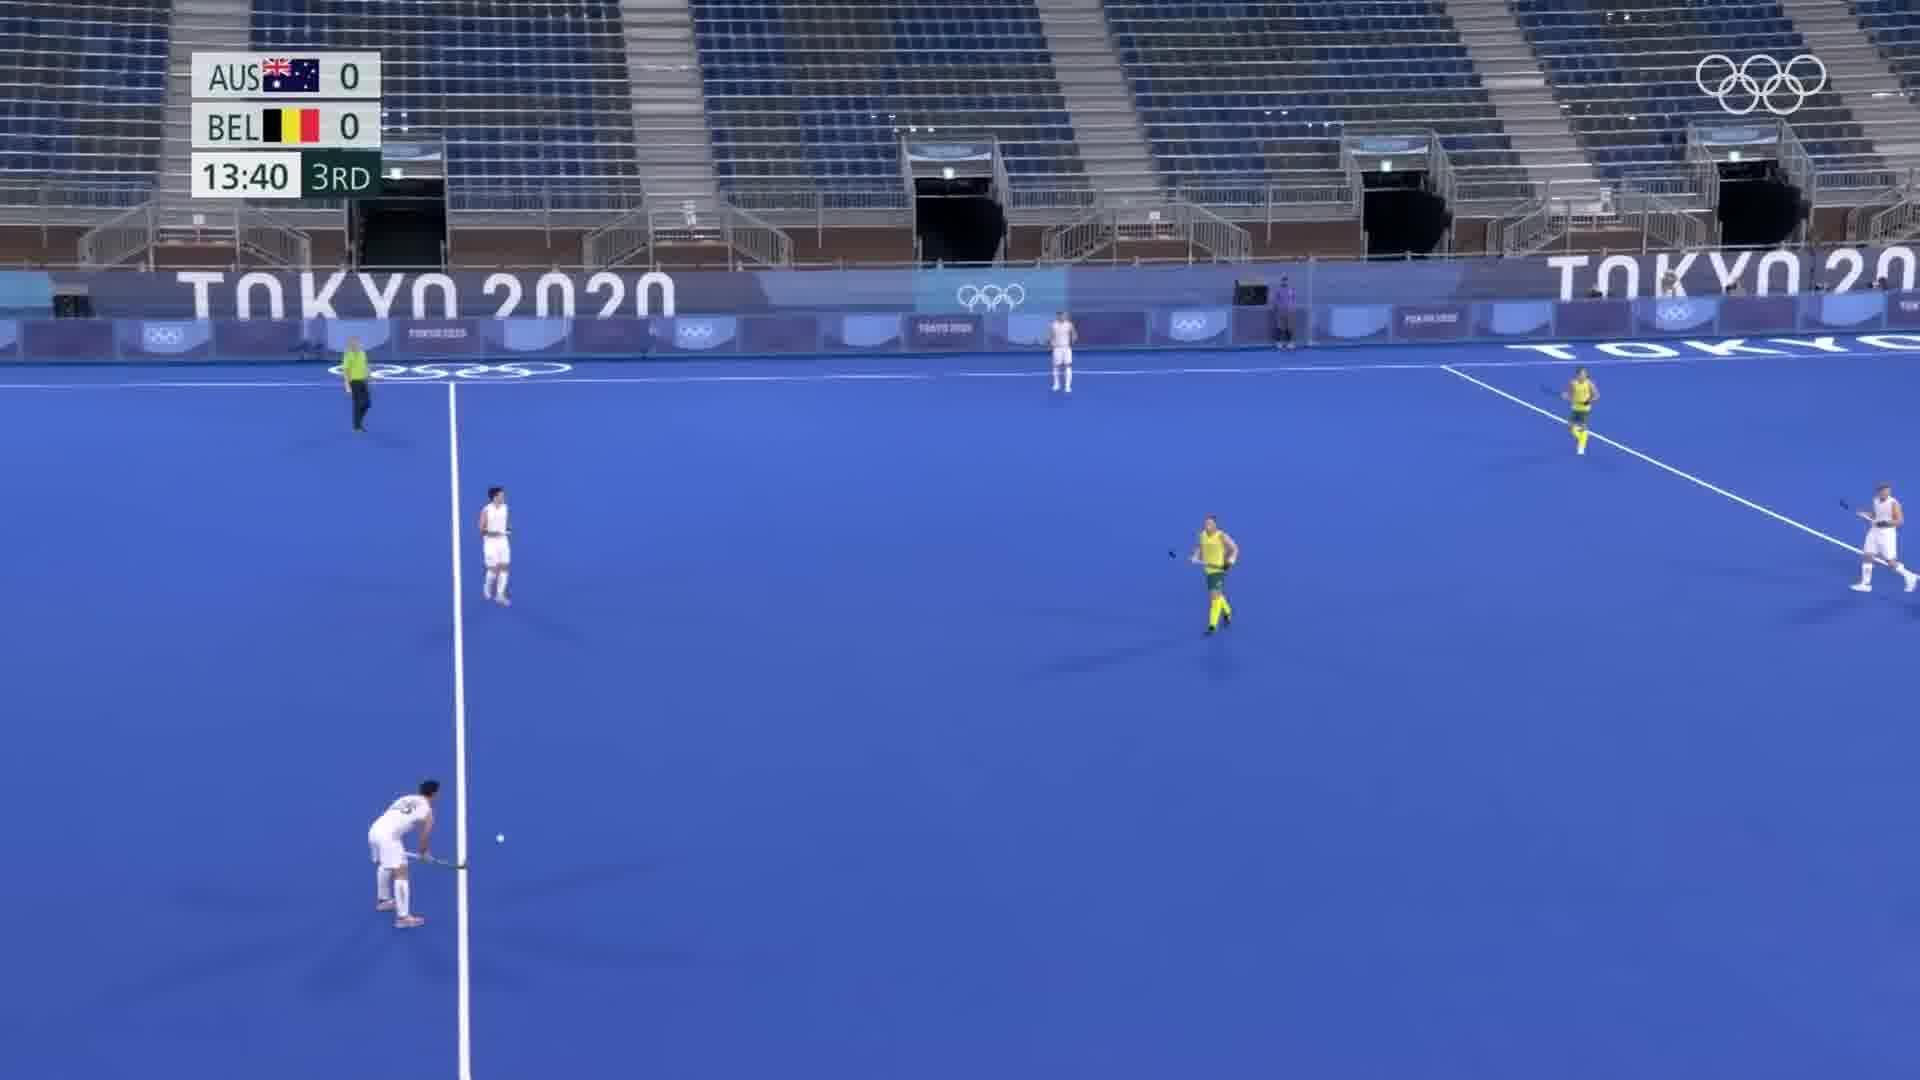ball: (491, 828, 512, 851)
